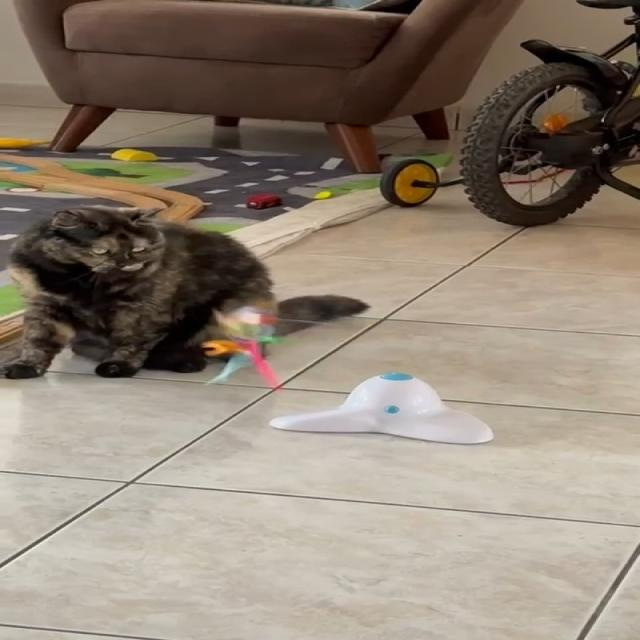authorized: (2, 204, 370, 379)
